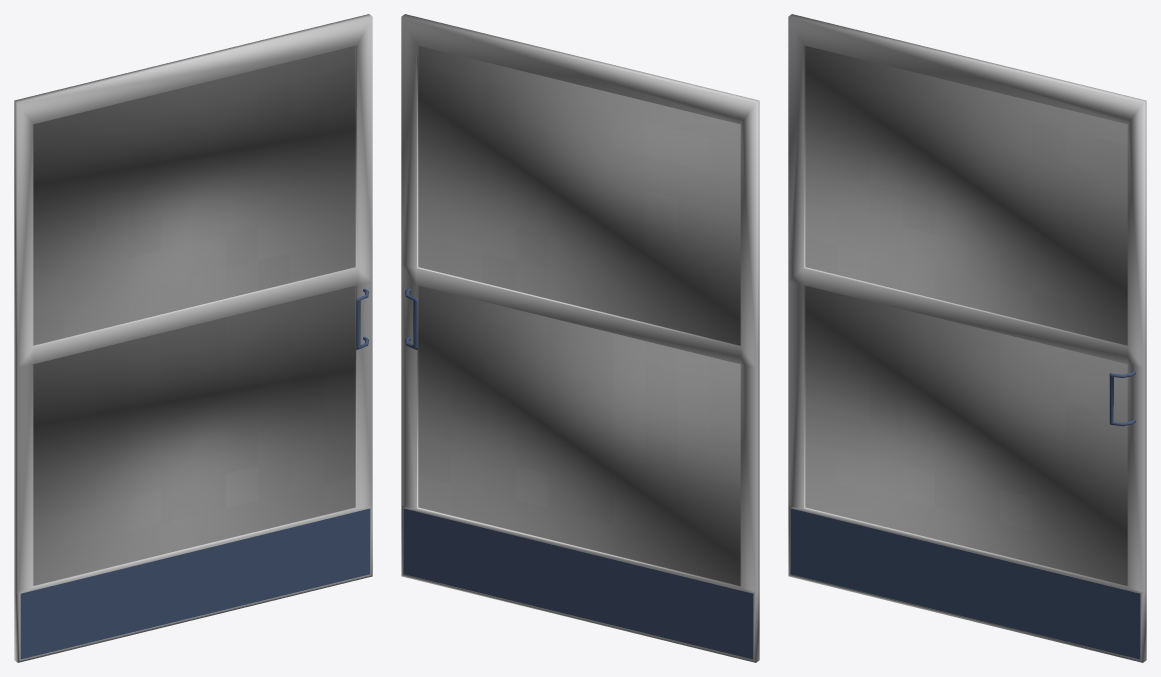
File: SW_corridor__R_lobby_R_Aula_Ovi_006.FBX
3 views of the same model, side by side, from view 1: azimuth 30°, elevation 25°; view 2: azimuth 150°, elevation 25°; view 3: azimuth 330°, elevation 25° (orthographic).
Parts seen in each view (by area): view 1: SW_corridor__R_lobby_R_Aula_Ovi_006; view 2: SW_corridor__R_lobby_R_Aula_Ovi_006; view 3: SW_corridor__R_lobby_R_Aula_Ovi_006.
Part boxes in pixels (bbox=[...]): SW_corridor__R_lobby_R_Aula_Ovi_006: bbox=[14, 14, 372, 662]; SW_corridor__R_lobby_R_Aula_Ovi_006: bbox=[401, 14, 759, 662]; SW_corridor__R_lobby_R_Aula_Ovi_006: bbox=[788, 14, 1146, 662].
Size of the model in its own units: 136 by 14.61 by 205.
